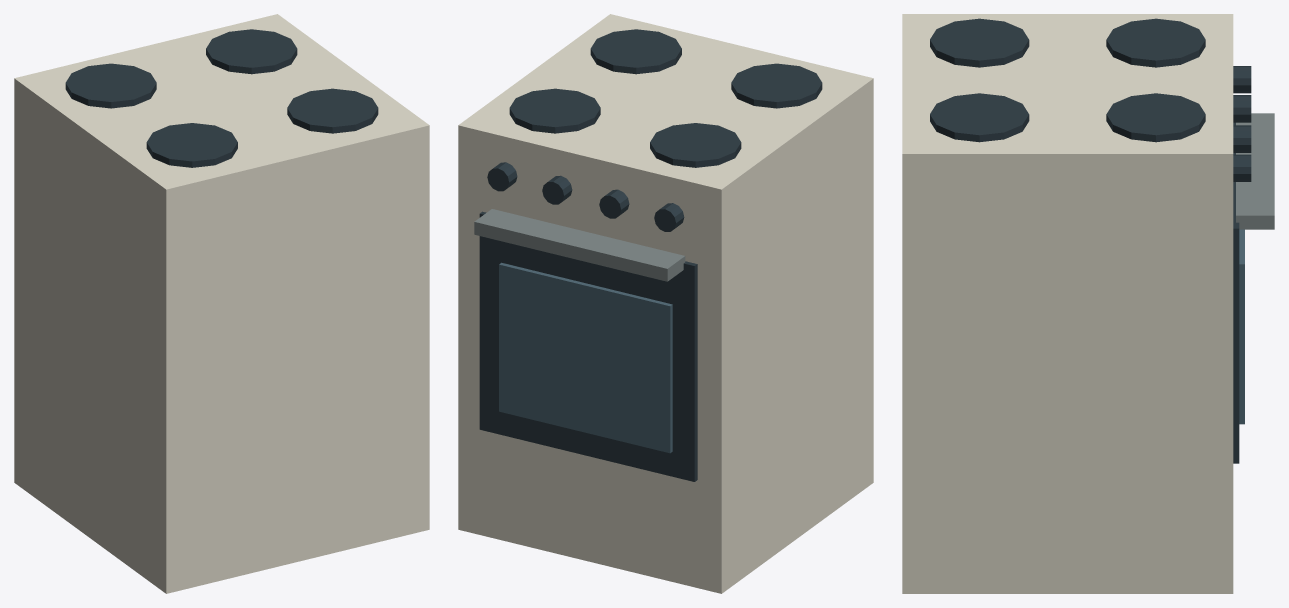
The model's file is cooker.glb.
3 views of the same model, side by side, from view 1: azimuth 30°, elevation 25°; view 2: azimuth 150°, elevation 25°; view 3: azimuth 270°, elevation 25° (orthographic). The views are drawn at different scales.
Parts seen in each view (by area): view 1: cooker; view 2: cooker; view 3: cooker.
Part boxes in pixels (bbox=[...]): cooker: bbox=[14, 14, 429, 593]; cooker: bbox=[458, 14, 873, 593]; cooker: bbox=[902, 14, 1274, 593].
Size of the model in its own units: 0.6 by 0.894 by 0.675.
